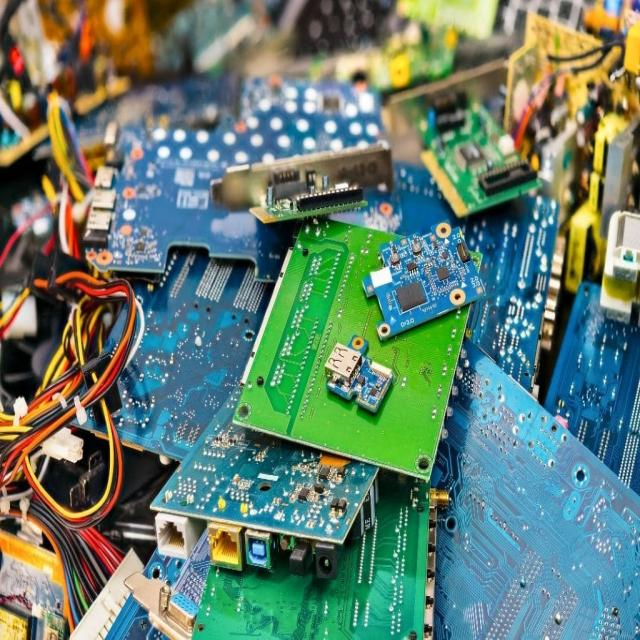E-waste: (4, 15, 636, 640)
